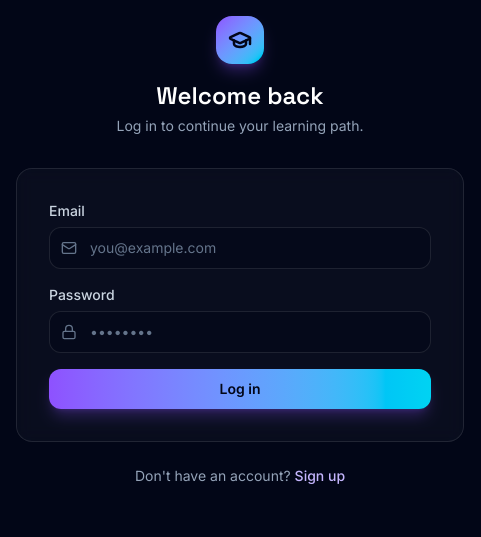
Test: Login page (behavior) › shows the error message when login fails and does not navigate
Type "jane@example.com" into the field labelled "Email".
click(240, 248); type("jane@example.com")  # box [49,227,431,269]
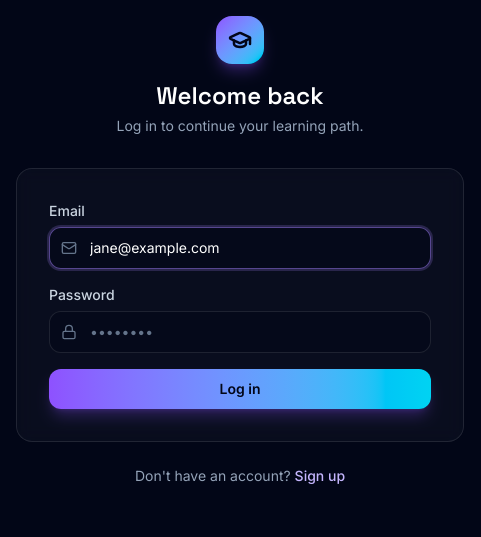
Type "wrongpass" into the password field labelled "Password".
click(240, 332); type("wrongpass")  # box [49,311,431,353]
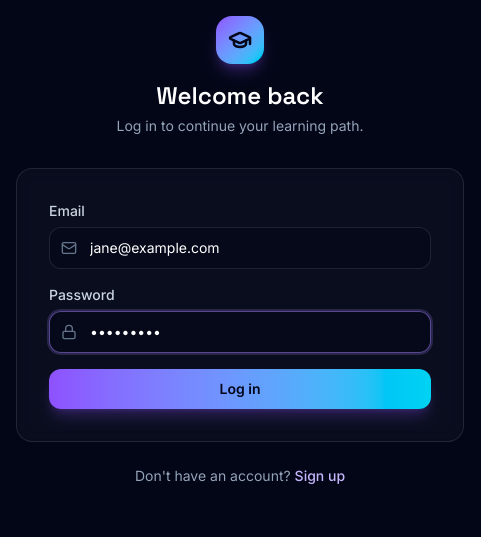
Click the button "Log in".
click(240, 389)  # box [49,369,431,409]
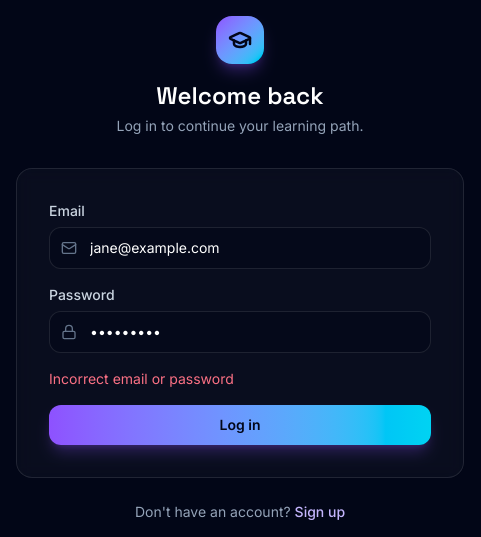
Expected: the text "Incorrect email or password" is shown, [49,370,234,387]
